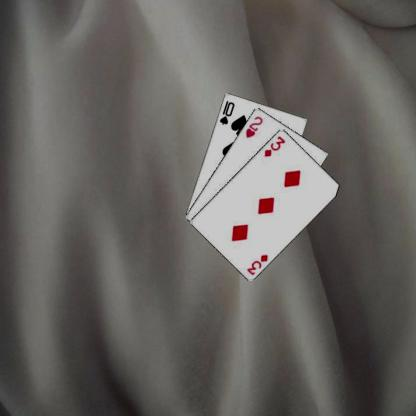10S: (218, 98, 236, 126)
2H: (243, 113, 264, 139)
3D: (262, 133, 286, 158), (244, 252, 269, 276)
